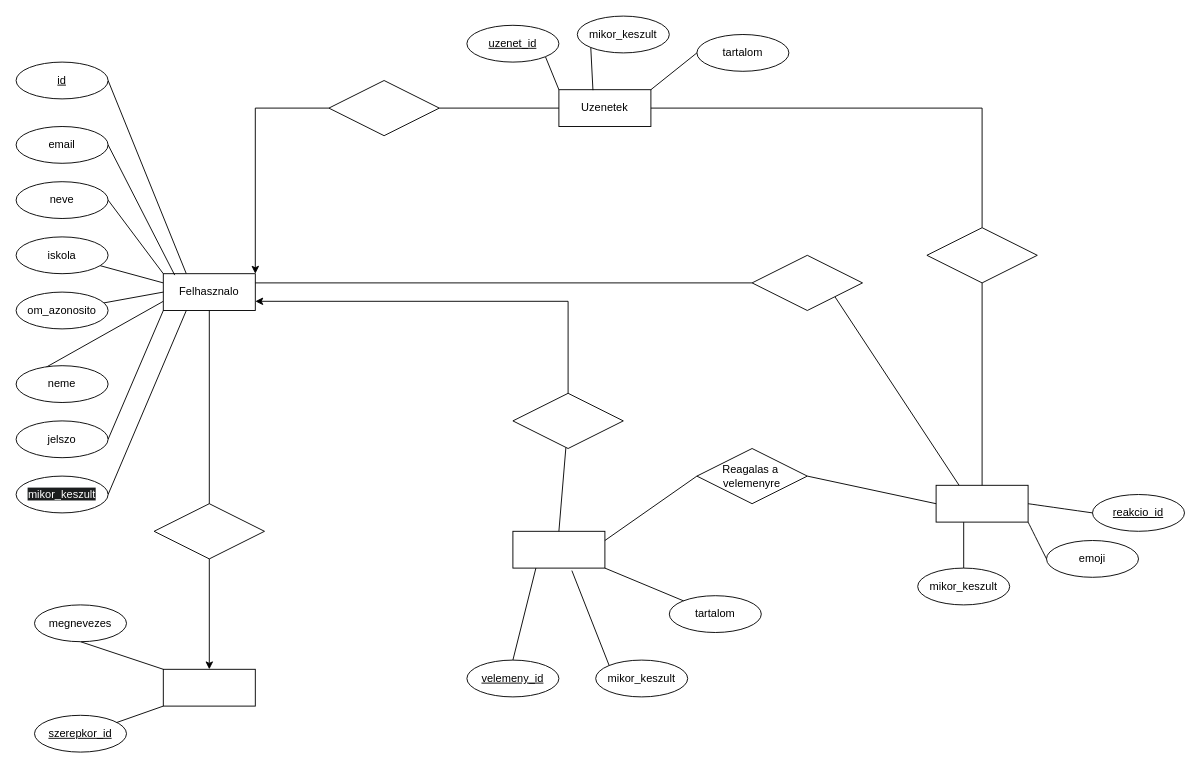
This 1201x768 diagram has some shape labels left out. Each missing label, with the centre of its shape:
"Felhasznaloi szerepkor" goes at pixel 208 531.
"Reagal" goes at pixel 806 282.
"Reagalas az uzenetre" goes at pixel 981 255.
"Reakciok" goes at pixel 981 503.
"Szerepkor" goes at pixel 208 687.
"Uzenet kuldes" goes at pixel 383 108.
"Velemeny" goes at pixel 558 549.
"Velemenyt irja" goes at pixel 567 420.
